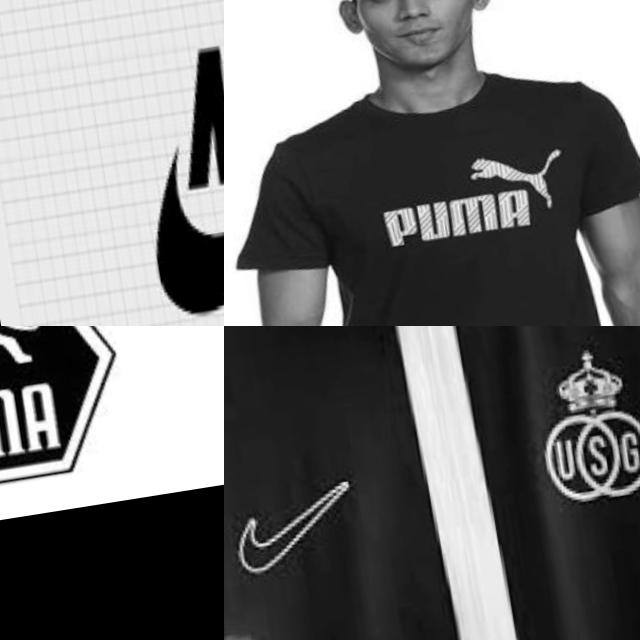NIKE_original: (224, 402, 393, 631), (117, 0, 224, 326)
PUMA_original: (355, 118, 600, 273)
